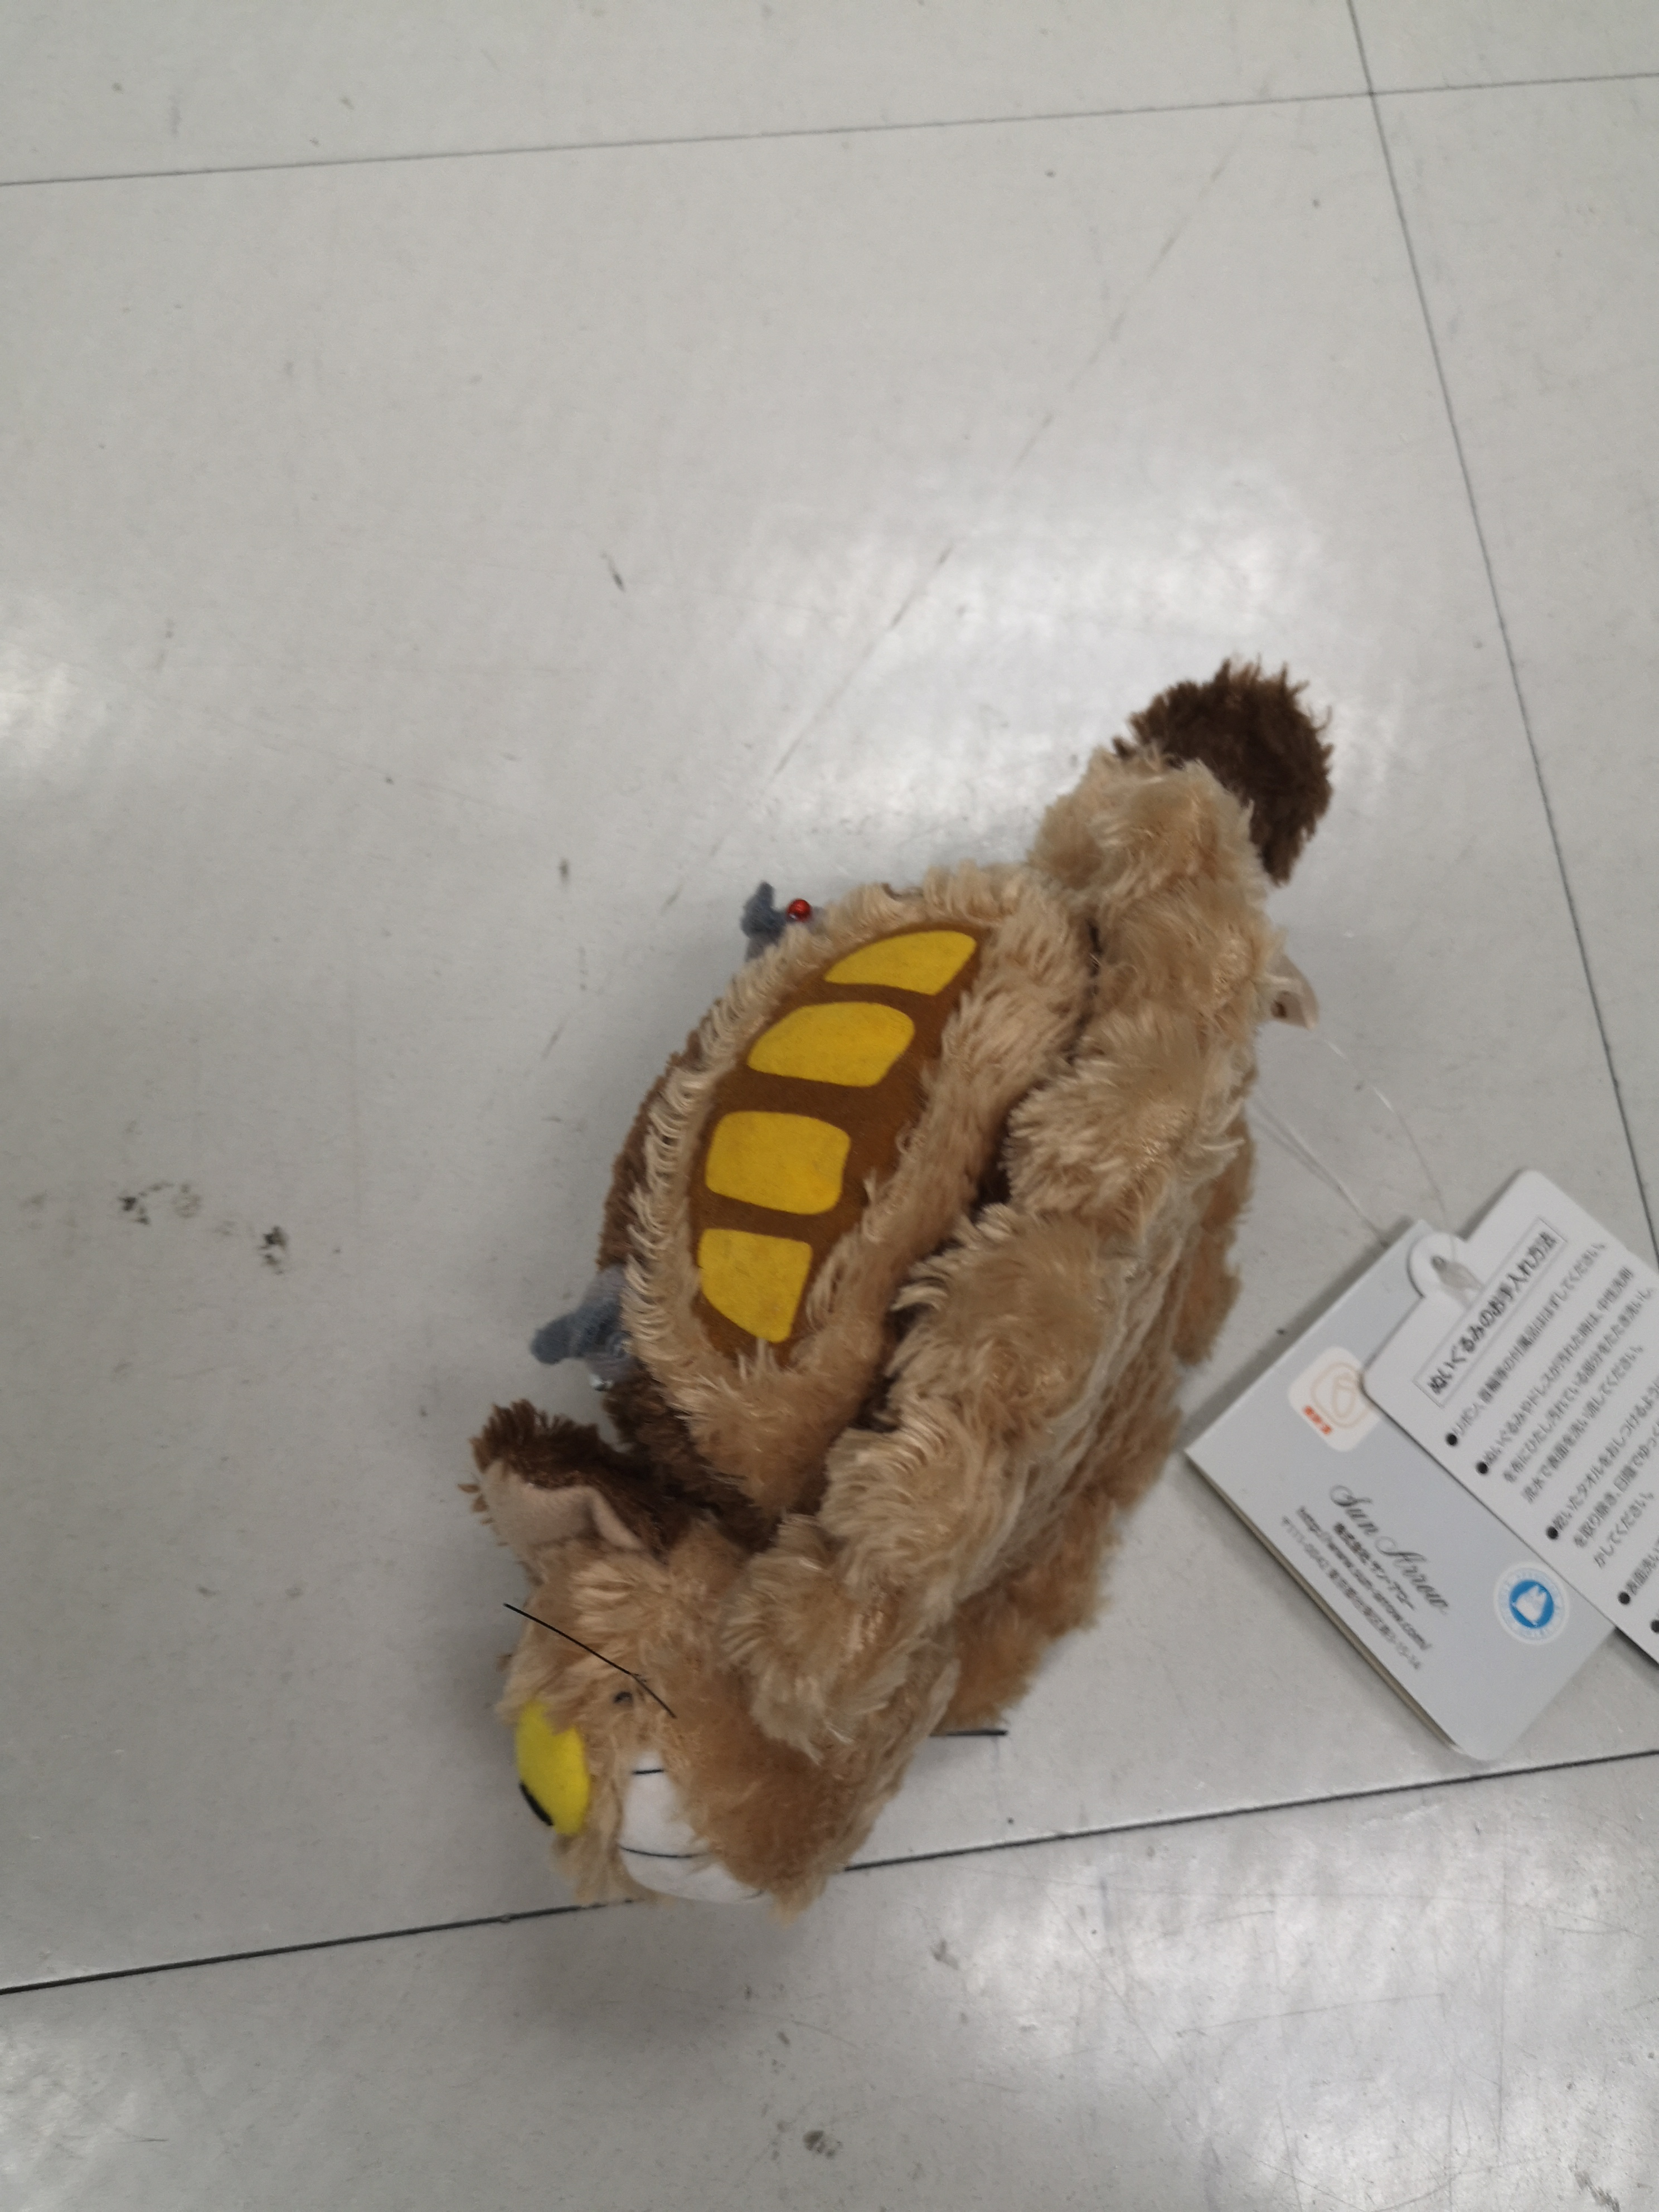nekobus: (450, 648, 1359, 1939)
